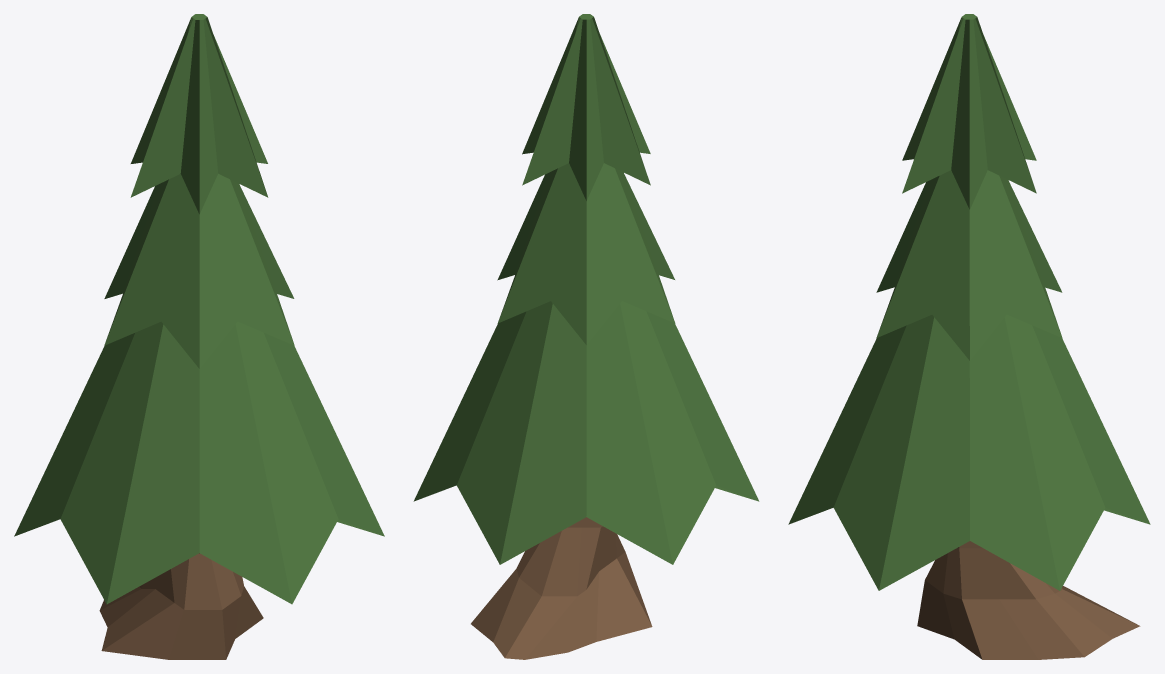
File: Árvore 1.fbx
3 views of the same model, side by side, from view 1: azimuth 30°, elevation 25°; view 2: azimuth 150°, elevation 25°; view 3: azimuth 270°, elevation 25° (orthographic). The views are drawn at different scales.
Parts seen in each view (by area): view 1: Árvore1; view 2: Árvore1; view 3: Árvore1.
Boxes of the visible parts, <box> form: Árvore1: <box>14,14,384,659</box>; Árvore1: <box>413,14,759,659</box>; Árvore1: <box>788,14,1150,659</box>.
Bounding box in the file's own units: 2582 × 5573 × 2981.
